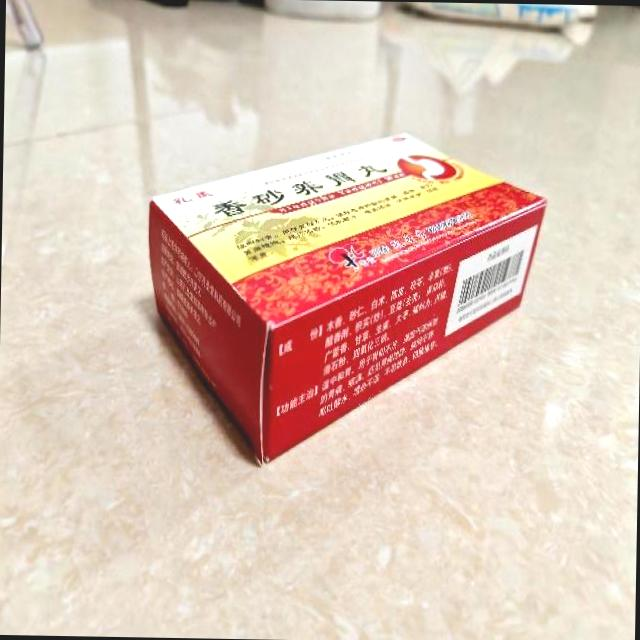box: (142, 128, 548, 468)
